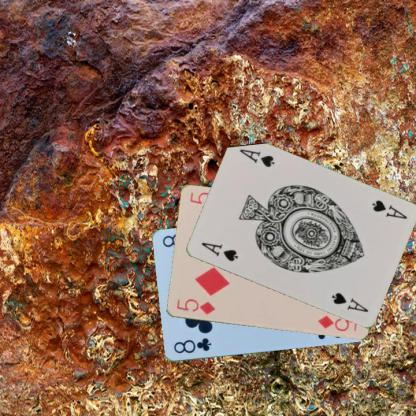5d: (174, 296, 216, 316)
8c: (170, 336, 212, 354)
As: (198, 240, 239, 263), (369, 198, 408, 220)
